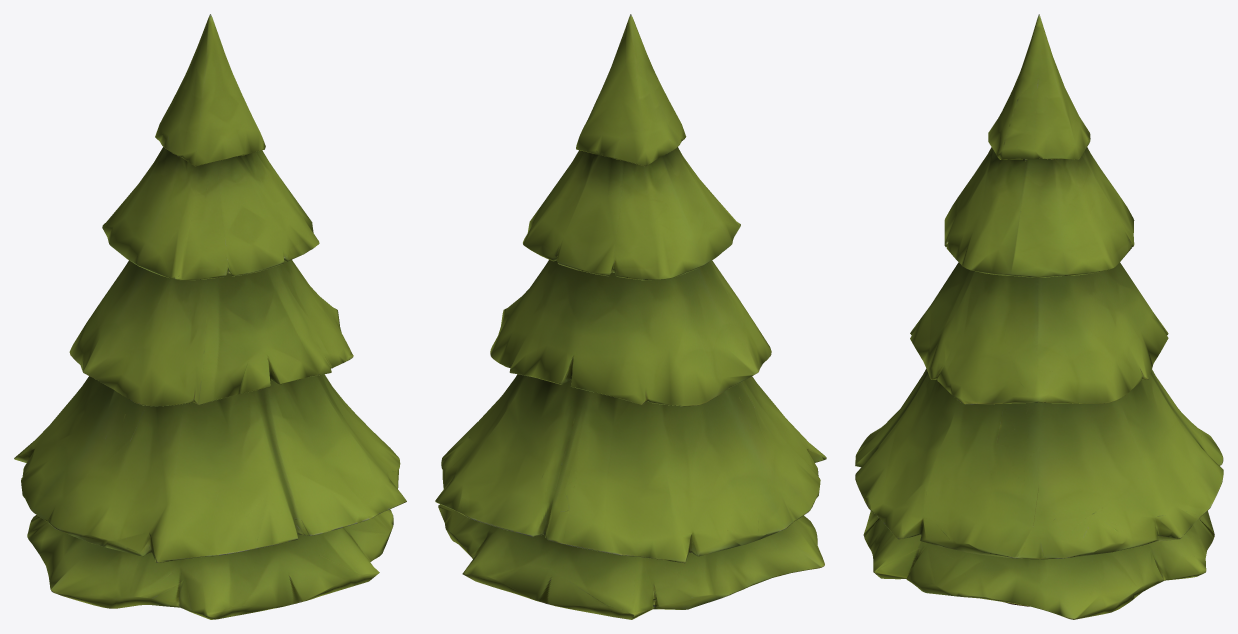
File: Meshy_AI_Polygonal_Christmas_T_0513141036_texture.fbx
The picture shows the model from 3 angles, left to right: view 1: azimuth 30°, elevation 25°; view 2: azimuth 150°, elevation 25°; view 3: azimuth 270°, elevation 25°; orthographic projection.
Parts seen in each view (by area): view 1: Mesh_0; view 2: Mesh_0; view 3: Mesh_0.
Part boxes in pixels (x1,y1,x2,y2): Mesh_0: [14, 14, 406, 619]; Mesh_0: [435, 14, 826, 619]; Mesh_0: [855, 14, 1223, 619].
Bounding box in the file's own units: 124 × 191 × 113.
1 material, 1 textured.
